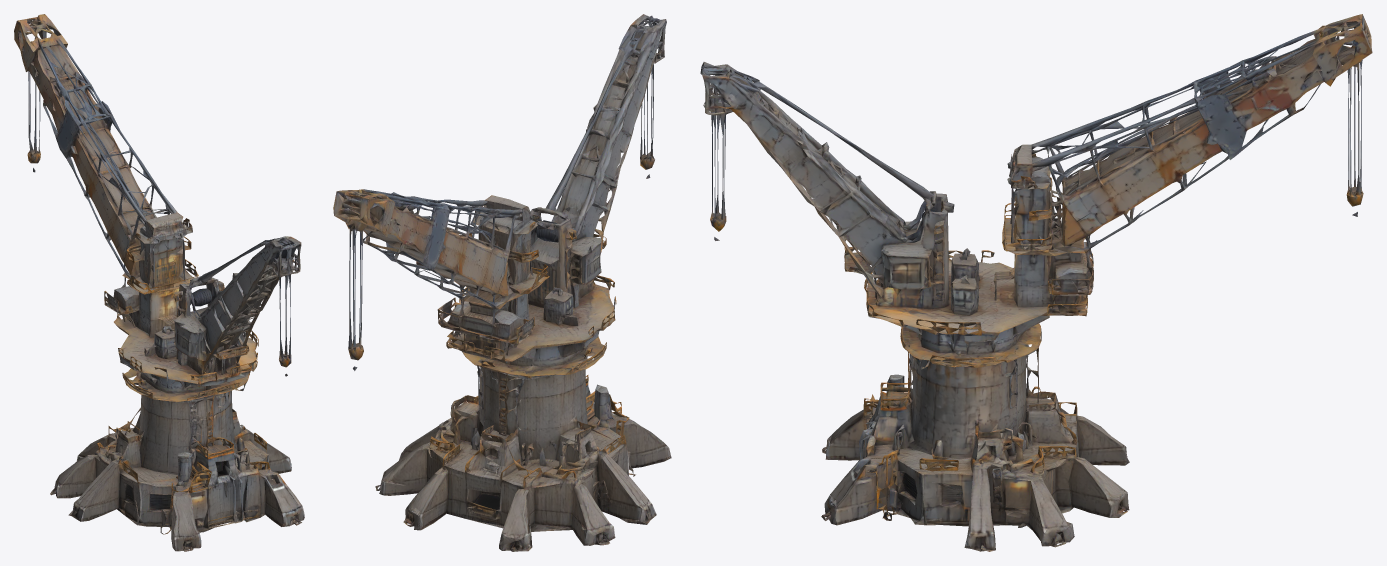
Rendered from BG-CRANE.glb.
3 views of the same model, side by side, from view 1: azimuth 30°, elevation 25°; view 2: azimuth 150°, elevation 25°; view 3: azimuth 270°, elevation 25° (orthographic). The views are drawn at different scales.
Parts seen in each view (by area): view 1: Mesh; view 2: Mesh; view 3: Mesh.
Boxes of the visible parts, x1=… form: Mesh: x1=14, y1=14, x2=304, y2=551; Mesh: x1=333, y1=14, x2=671, y2=551; Mesh: x1=700, y1=14, x2=1372, y2=551.
Bounding box in the file's own units: 0.8919 × 1.44 × 1.89.
1 material, 1 textured.
